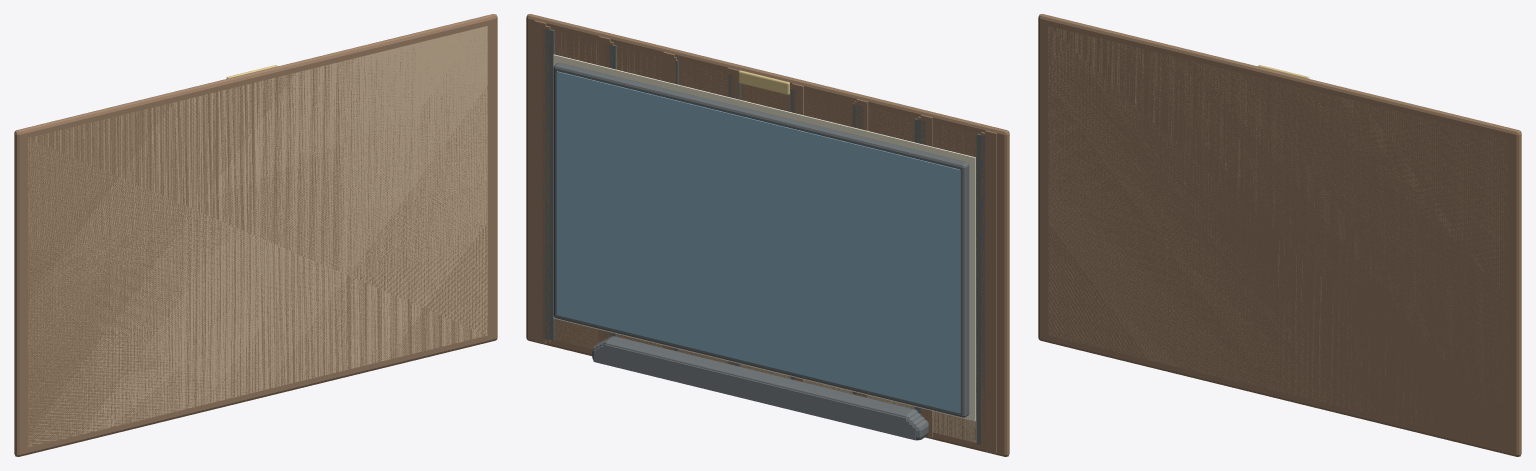
The model's file is Gear16.fbx.
3 views of the same model, side by side, from view 1: azimuth 30°, elevation 25°; view 2: azimuth 150°, elevation 25°; view 3: azimuth 330°, elevation 25° (orthographic).
Visible parts, largest first — view 1: Gear16_V8_Oak, Gear16_V10_Walnut, Gear16_V9_Walnut; view 2: Gear16_V10_ScreenUI, Gear16_V7_ScreenUI, Gear16_V10_Walnut, Gear16_V5_ScreenUI, Gear16_V2_ScreenUI, Gear16_V3_ScreenUI, Gear16_V9_Walnut, Gear16_V1_ScreenUI, Gear16_V4_ScreenUI, Gear16_V10_Charcoal, Gear16_V8_Charcoal, Gear16_V10_LampLight (+8 smaller); view 3: Gear16_V10_Walnut, Gear16_V8_Oak, Gear16_V9_Walnut.
Part boxes in pixels (left/top/right/bottom): Gear16_V8_Oak: left=28, top=26, right=487, bottom=447; Gear16_V10_Walnut: left=14, top=14, right=497, bottom=456; Gear16_V9_Walnut: left=24, top=80, right=488, bottom=450; Gear16_V10_ScreenUI: left=556, top=71, right=960, bottom=413; Gear16_V7_ScreenUI: left=569, top=82, right=947, bottom=402; Gear16_V10_Walnut: left=526, top=14, right=1009, bottom=456; Gear16_V5_ScreenUI: left=578, top=90, right=938, bottom=393; Gear16_V2_ScreenUI: left=619, top=128, right=897, bottom=356; Gear16_V3_ScreenUI: left=609, top=157, right=907, bottom=368; Gear16_V9_Walnut: left=532, top=24, right=999, bottom=451; Gear16_V1_ScreenUI: left=623, top=147, right=893, bottom=346; Gear16_V4_ScreenUI: left=606, top=117, right=910, bottom=343; Gear16_V10_Charcoal: left=553, top=62, right=969, bottom=440; Gear16_V8_Charcoal: left=542, top=28, right=986, bottom=444; Gear16_V10_LampLight: left=553, top=54, right=975, bottom=421; Gear16_V10_Walnut: left=1038, top=14, right=1521, bottom=456; Gear16_V8_Oak: left=1048, top=26, right=1507, bottom=434; Gear16_V9_Walnut: left=1044, top=23, right=1509, bottom=408.
Bounding box in the file's own units: 152 × 98.07 × 8.2.
